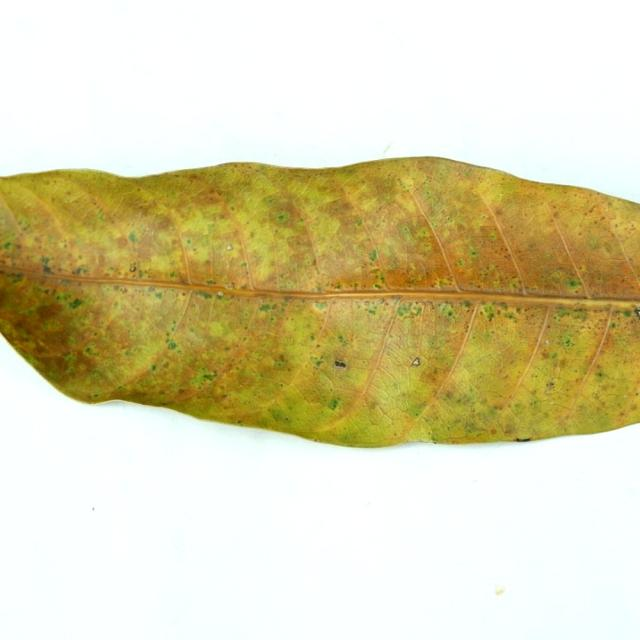Mango: (0, 157, 639, 447)
Powdery_Mildew: (419, 365, 449, 390), (476, 263, 505, 286), (315, 216, 341, 237), (190, 368, 216, 388), (396, 302, 425, 319), (554, 307, 583, 322), (40, 256, 63, 273), (189, 290, 221, 301), (326, 394, 344, 412), (397, 175, 418, 190), (270, 408, 289, 423), (432, 276, 453, 289), (208, 322, 225, 337), (5, 272, 24, 284), (481, 306, 496, 321), (328, 280, 350, 290), (71, 264, 89, 276), (406, 273, 424, 284), (497, 244, 511, 258), (410, 405, 424, 417), (68, 298, 83, 309), (503, 311, 518, 322), (259, 303, 275, 312), (311, 356, 323, 367), (417, 229, 430, 239), (307, 331, 317, 344), (313, 301, 327, 310), (128, 231, 138, 243), (588, 238, 600, 248), (368, 401, 380, 411), (567, 279, 580, 288), (167, 340, 178, 350), (587, 204, 598, 214), (368, 249, 377, 261), (624, 309, 636, 318), (85, 346, 96, 355), (334, 360, 346, 368), (445, 307, 454, 317), (401, 226, 411, 235), (611, 320, 621, 329), (3, 241, 12, 250), (314, 283, 323, 292), (527, 284, 538, 291), (337, 334, 345, 343), (367, 307, 376, 315), (488, 232, 497, 240), (204, 279, 216, 285), (546, 381, 555, 389), (551, 212, 560, 220), (179, 290, 188, 298), (622, 276, 633, 282), (564, 338, 572, 346), (154, 291, 162, 299), (169, 270, 177, 278), (277, 214, 286, 221), (373, 282, 382, 289), (424, 190, 433, 197), (596, 371, 604, 378), (456, 259, 464, 266), (275, 361, 283, 368), (150, 365, 157, 372), (470, 250, 477, 257), (355, 220, 362, 227), (240, 261, 247, 268), (490, 428, 497, 435), (129, 265, 136, 272), (310, 258, 316, 266), (230, 282, 236, 290), (92, 393, 100, 398), (226, 244, 232, 250), (236, 419, 243, 424), (186, 239, 192, 244), (230, 206, 235, 211), (614, 223, 619, 228), (498, 193, 503, 198), (393, 431, 397, 436), (638, 390, 640, 397)
